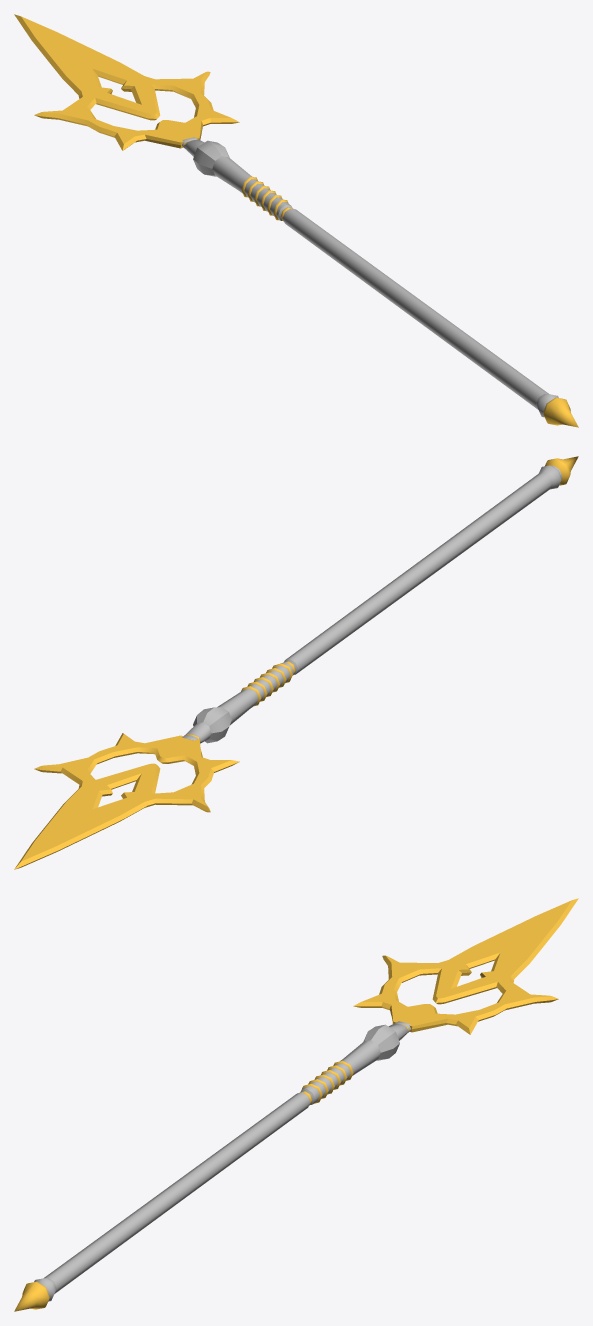
File: spear_angel.glb
3 renders of one model, top to bottom at view 1: azimuth 30°, elevation 25°; view 2: azimuth 150°, elevation 25°; view 3: azimuth 330°, elevation 25°, orthographic.
Visible parts, largest first — view 1: 1.072, 0.118; view 2: 1.072, 0.118; view 3: 1.072, 0.118.
Part boxes in pixels (left/top/right/bottom): 1.072: left=14, top=14, right=578, bottom=427; 0.118: left=182, top=137, right=558, bottom=417; 1.072: left=14, top=456, right=578, bottom=869; 0.118: left=182, top=465, right=562, bottom=743; 1.072: left=14, top=898, right=578, bottom=1311; 0.118: left=34, top=1021, right=411, bottom=1301.
Size of the model in its own units: 0.1981 by 0.0334 by 1.09.
